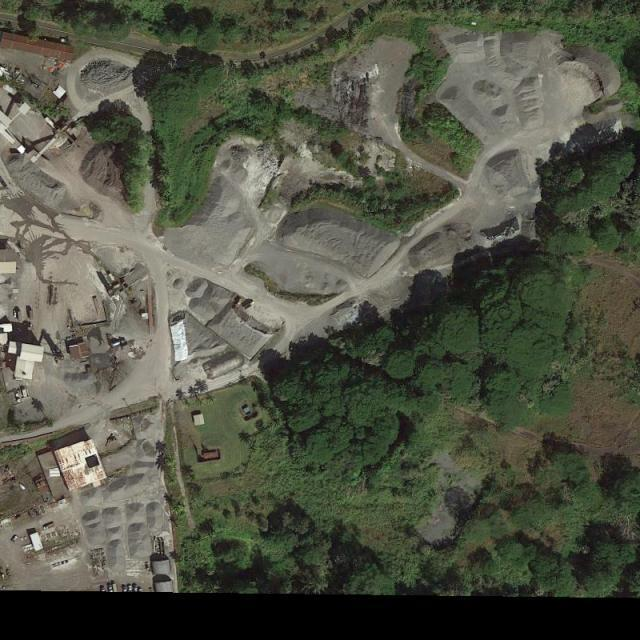vehicle: (42, 522, 54, 530), (11, 535, 18, 543), (13, 309, 17, 318)
